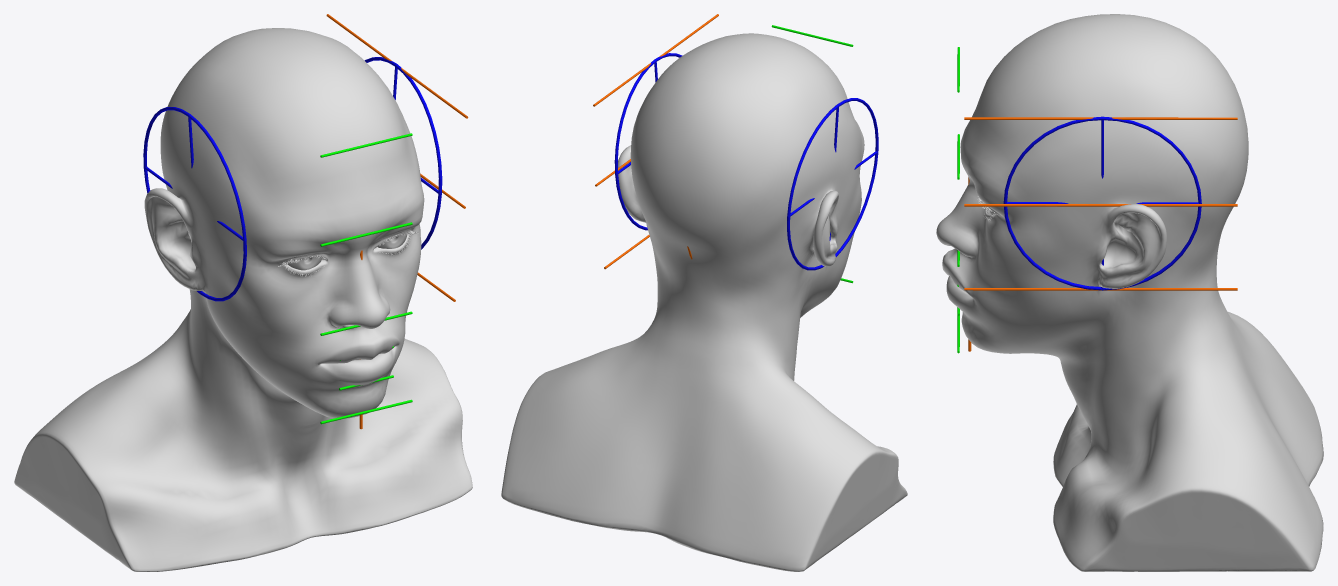
The model's file is male.glb.
3 views of the same model, side by side, from view 1: azimuth 30°, elevation 25°; view 2: azimuth 150°, elevation 25°; view 3: azimuth 270°, elevation 25° (orthographic). The views are drawn at different scales.
Visible parts, largest first — view 1: Model, Right_Side_Plane_Guide, Left_Side_Plane_Guide; view 2: Model, Right_Side_Plane_Guide, Left_Side_Plane_Guide; view 3: Model, Left_Side_Plane_Guide, Side_Plane_Horizontal_Middle_Guide, Side_Plane_Horizontal_Bottom_Guide, Side_Plane_Horizontal_Top_Guide.
Part boxes in pixels (x1,y1,x2,y2): Model: (14,28,472,571); Right_Side_Plane_Guide: (143,107,246,301); Left_Side_Plane_Guide: (364,57,442,249); Model: (501,33,907,571); Right_Side_Plane_Guide: (787,98,878,270); Left_Side_Plane_Guide: (614,53,682,230); Model: (936,14,1323,571); Left_Side_Plane_Guide: (1003,116,1201,290); Side_Plane_Horizontal_Middle_Guide: (964,204,1237,206); Side_Plane_Horizontal_Bottom_Guide: (964,288,1237,290); Side_Plane_Horizontal_Top_Guide: (964,117,1237,119).
Bounding box in the file's own units: 8.58 × 10.55 × 7.93.
